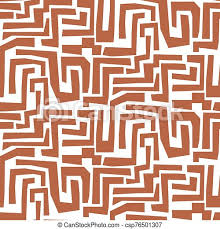maze: (1, 1, 220, 220)
